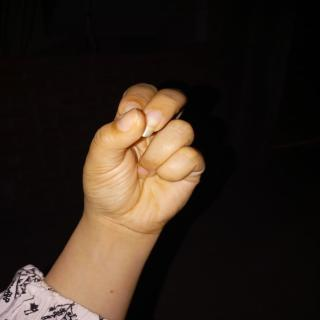QAAF: (72, 78, 214, 243)
